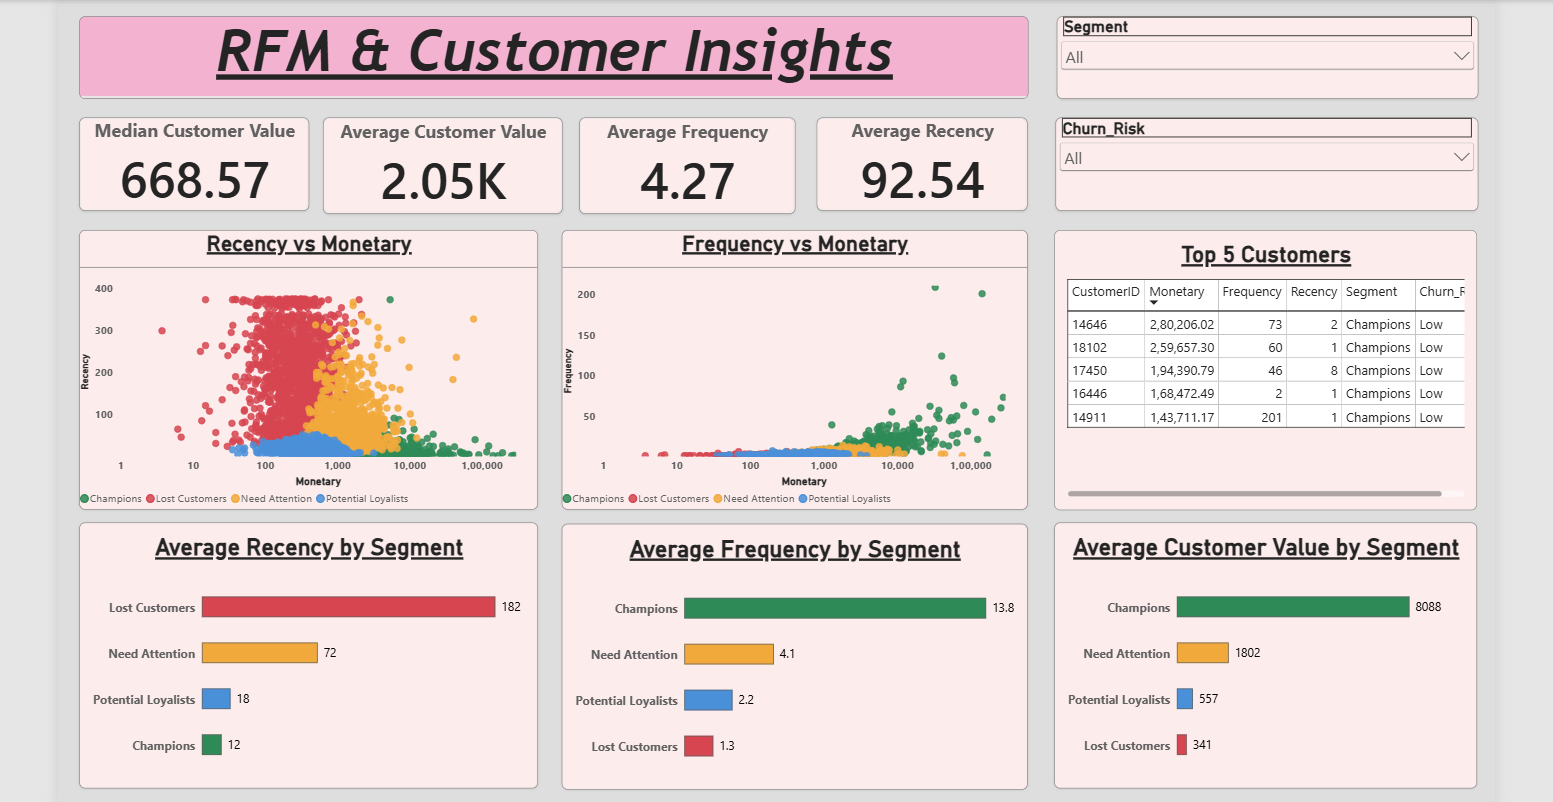

What the dashboard file says about the page in this screenshot:
{"tool":"powerbi","page":{"name":"2. RFM & Customer Insights","canvas":[1920,1080],"ordinal":1},"visuals":[{"type":"cardVisual","fields":{"Data":["measures_table.Average Recency"]},"box":[1014.1,156.4,281.6,125.2],"z":0},{"type":"cardVisual","fields":{"Data":["measures_table.Average Frequency"]},"box":[695.7,156.4,289,128.8],"z":1000},{"type":"cardVisual","fields":{"Data":["measures_table.Average Customer Value"]},"box":[353.4,156.4,320.2,128.8],"z":2000},{"type":"scatterChart","title":"Recency vs Monetary","fields":{"Category":["final_rfm_customer_segmentation.CustomerID"],"Series":["final_rfm_customer_segmentation.Segment"],"X":["Sum(final_rfm_customer_segmentation.Monetary)"],"Y":["final_rfm_customer_segmentation.Recency"]},"box":[27.6,307.4,612.9,373.6],"z":3000},{"type":"scatterChart","title":"Frequency vs Monetary","fields":{"Category":["final_rfm_customer_segmentation.CustomerID"],"Series":["final_rfm_customer_segmentation.Segment"],"X":["Sum(final_rfm_customer_segmentation.Monetary)"],"Y":["Sum(final_rfm_customer_segmentation.Frequency)"]},"box":[673.6,307.4,622.1,373.6],"z":4000},{"type":"barChart","fields":{"Category":["final_rfm_customer_segmentation.Segment"],"Y":["measures_table.Average Recency"]},"box":[27.6,697.5,612.9,355.2],"z":5000},{"type":"barChart","fields":{"Category":["final_rfm_customer_segmentation.Segment"],"Y":["measures_table.Average Frequency"]},"box":[673.6,699.4,622.1,355.2],"z":6000},{"type":"barChart","fields":{"Category":["final_rfm_customer_segmentation.Segment"],"Y":["measures_table.Average Customer Value"]},"box":[1330.7,697.5,565,355.2],"z":7000},{"type":"slicer","fields":{"Values":["final_rfm_customer_segmentation.Segment"]},"box":[1334.4,22.1,563.2,110.4],"z":8000},{"type":"slicer","fields":{"Values":["final_rfm_customer_segmentation.Churn_Risk"]},"box":[1332.5,156.4,565,125.2],"z":9000},{"type":"tableEx","title":"Top 5 Customers","fields":{"Values":["final_rfm_customer_segmentation.CustomerID","Sum(final_rfm_customer_segmentation.Monetary)","Sum(final_rfm_customer_segmentation.Frequency)","Sum(final_rfm_customer_segmentation.Recency)","final_rfm_customer_segmentation.Segment","final_rfm_customer_segmentation.Churn_Risk"]},"box":[1330.7,307.4,565,374],"z":10000},{"type":"shape","title":"RFM & Customer Insights","box":[27.6,22.1,1268.1,110.4],"z":11000},{"type":"cardVisual","fields":{"Data":["measures_table.Median Customer Value"]},"box":[27.6,156.4,307.4,125.2],"z":12000}]}

Visuals, with their boxes on the page's 1920x1080 design canvas (x1, y1, x2, y2). These are canvas units, not pixel positions in the 1553x802 screenshot, which may show the page scaled, cropped or inside an application window:
cardVisual - measures_table.Average Recency: (left=1014, top=156, right=1296, bottom=282)
cardVisual - measures_table.Average Frequency: (left=696, top=156, right=985, bottom=285)
cardVisual - measures_table.Average Customer Value: (left=353, top=156, right=674, bottom=285)
"Recency vs Monetary" scatterChart: (left=28, top=307, right=640, bottom=681)
"Frequency vs Monetary" scatterChart: (left=674, top=307, right=1296, bottom=681)
barChart - final_rfm_customer_segmentation.Segment x measures_table.Average Recency: (left=28, top=698, right=640, bottom=1053)
barChart - final_rfm_customer_segmentation.Segment x measures_table.Average Frequency: (left=674, top=699, right=1296, bottom=1055)
barChart - final_rfm_customer_segmentation.Segment x measures_table.Average Customer Value: (left=1331, top=698, right=1896, bottom=1053)
slicer - final_rfm_customer_segmentation.Segment: (left=1334, top=22, right=1898, bottom=132)
slicer - final_rfm_customer_segmentation.Churn_Risk: (left=1332, top=156, right=1898, bottom=282)
"Top 5 Customers" tableEx: (left=1331, top=307, right=1896, bottom=681)
"RFM & Customer Insights" shape: (left=28, top=22, right=1296, bottom=132)
cardVisual - measures_table.Median Customer Value: (left=28, top=156, right=335, bottom=282)
